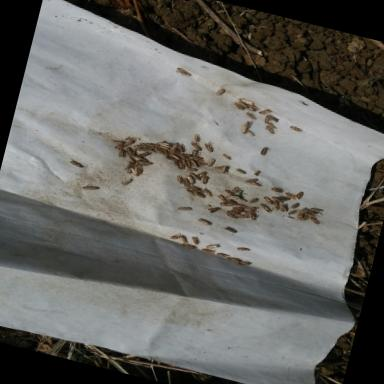pbw: (172, 66, 197, 80), (66, 156, 89, 170), (174, 202, 196, 216), (176, 240, 201, 252), (286, 122, 306, 136), (236, 256, 256, 270), (222, 222, 242, 236), (202, 240, 223, 253), (193, 216, 215, 228), (234, 242, 254, 255), (200, 141, 218, 155), (235, 96, 257, 107), (204, 156, 220, 171), (256, 106, 276, 118), (80, 182, 100, 194), (225, 252, 242, 266), (204, 204, 222, 216), (268, 183, 286, 195), (186, 132, 204, 144), (242, 110, 260, 122), (249, 168, 266, 180), (287, 200, 304, 212), (122, 134, 142, 144), (260, 117, 278, 128), (136, 158, 154, 169), (120, 158, 134, 172), (118, 176, 134, 188), (198, 174, 212, 187), (258, 203, 274, 214), (238, 119, 254, 130), (122, 146, 136, 158), (230, 100, 244, 112), (260, 195, 275, 206), (112, 141, 127, 152), (228, 206, 246, 215), (188, 142, 204, 152), (182, 174, 198, 184), (284, 192, 300, 202), (278, 202, 291, 214), (213, 86, 226, 98), (196, 170, 210, 181), (188, 235, 202, 246), (188, 158, 200, 170), (177, 234, 189, 246), (128, 166, 140, 178), (129, 160, 142, 171), (286, 207, 299, 218), (214, 162, 228, 172), (137, 150, 151, 160), (200, 188, 214, 198), (262, 125, 276, 135), (168, 231, 180, 242), (122, 138, 134, 149), (224, 208, 240, 216), (135, 146, 151, 154), (133, 154, 149, 162), (154, 140, 170, 148), (226, 194, 242, 202), (244, 176, 258, 185), (222, 188, 236, 197), (182, 166, 196, 175), (155, 144, 170, 152), (294, 191, 306, 201), (246, 196, 258, 206), (124, 154, 136, 164), (215, 252, 230, 260), (109, 138, 124, 146), (218, 201, 235, 208), (236, 212, 250, 220), (199, 248, 215, 255), (234, 168, 248, 176), (302, 212, 318, 219), (140, 140, 154, 148), (192, 190, 206, 198), (270, 196, 286, 203), (230, 204, 244, 212), (158, 148, 172, 156), (219, 164, 230, 174), (247, 211, 258, 221), (244, 206, 255, 216), (278, 194, 290, 203), (236, 100, 248, 109), (174, 174, 184, 184), (259, 146, 269, 156), (182, 178, 192, 188), (116, 148, 126, 158), (239, 124, 248, 135), (225, 213, 239, 220), (188, 172, 200, 180), (266, 114, 278, 122), (249, 180, 261, 188), (220, 152, 232, 160), (174, 162, 186, 170), (284, 214, 296, 222), (244, 104, 256, 112), (308, 206, 324, 212), (191, 155, 203, 163), (169, 154, 182, 161), (134, 143, 147, 150), (230, 186, 240, 195), (125, 164, 134, 174), (196, 160, 207, 168), (184, 188, 195, 196), (272, 201, 280, 212), (245, 204, 256, 212), (248, 104, 262, 110), (298, 206, 308, 214), (176, 144, 186, 152), (164, 156, 177, 162), (298, 216, 309, 223), (217, 195, 228, 202), (191, 188, 203, 194), (171, 161, 180, 169), (154, 148, 166, 154), (184, 158, 192, 167), (263, 116, 271, 125), (306, 209, 318, 215), (188, 184, 200, 190), (236, 203, 248, 209), (169, 148, 178, 156), (310, 218, 320, 225), (178, 152, 192, 157), (226, 200, 237, 206), (136, 166, 144, 174), (190, 148, 198, 156), (236, 196, 246, 202), (266, 122, 276, 128), (236, 188, 243, 196), (246, 130, 254, 136), (170, 142, 176, 150), (296, 215, 304, 220)
